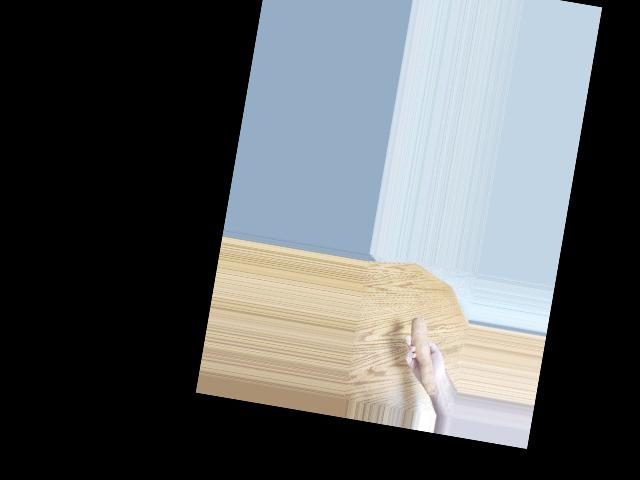sweet_potato: (398, 314, 449, 397)
